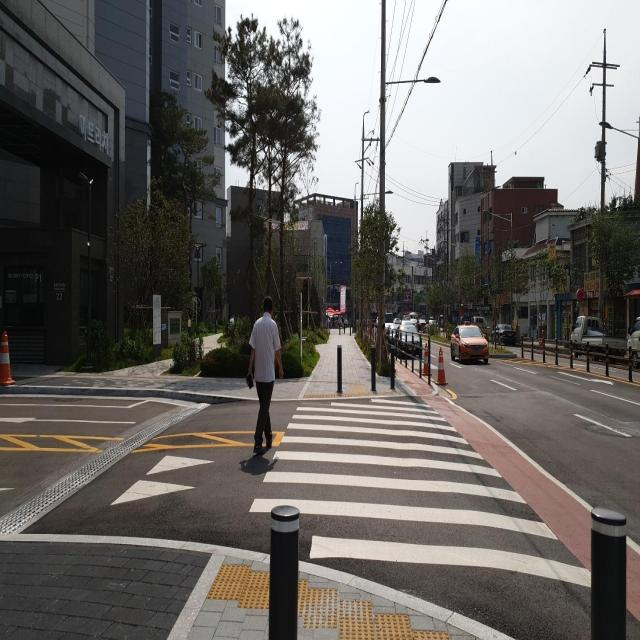횡단보도: (246, 394, 594, 594)
